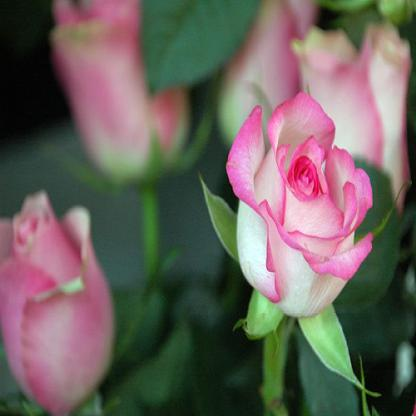ROSE-MAWAR: (207, 71, 394, 331)
